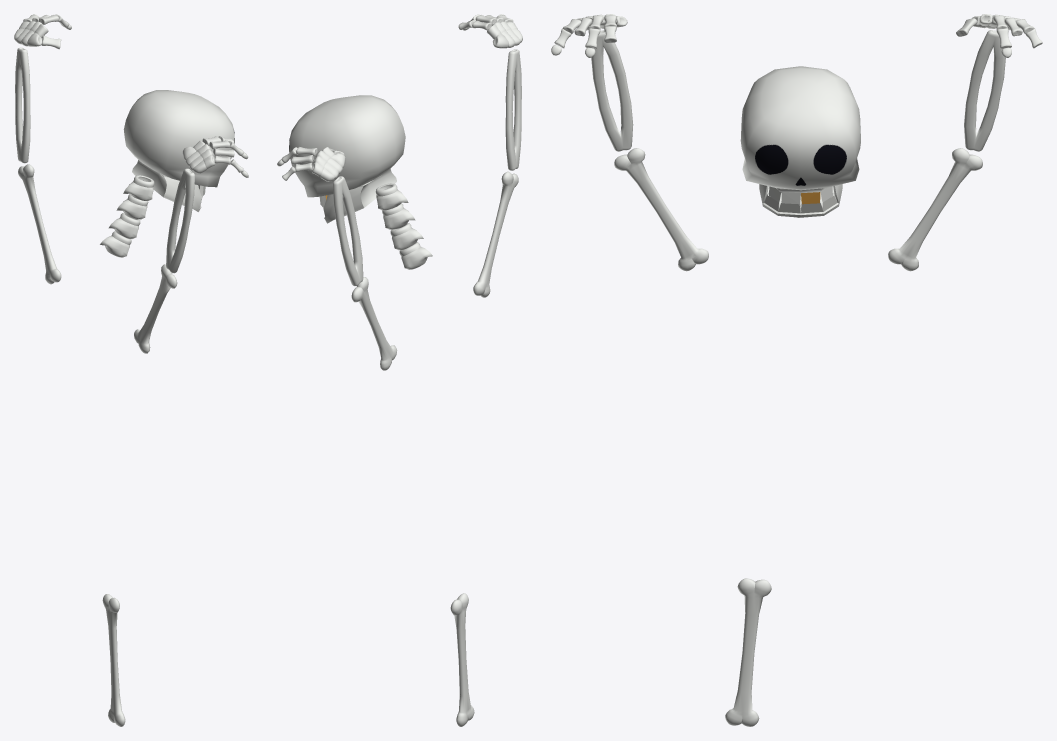
The model's file is Skelly.fbx.
The picture shows the model from 3 angles, left to right: view 1: azimuth 30°, elevation 25°; view 2: azimuth 150°, elevation 25°; view 3: azimuth 270°, elevation 25°; orthographic projection. The views are drawn at different scales.
Visible parts, largest first — view 1: Skeleton, JawBone; view 2: Skeleton, JawBone; view 3: Skeleton, JawBone.
Part boxes in pixels (x1,y1,x2,y2): Skeleton: [14, 14, 248, 726]; JawBone: [132, 160, 202, 211]; Skeleton: [277, 14, 522, 726]; JawBone: [323, 168, 396, 223]; Skeleton: [551, 14, 1042, 726]; JawBone: [759, 184, 842, 217].
Bounding box in the file's own units: 122 × 522 × 318.
